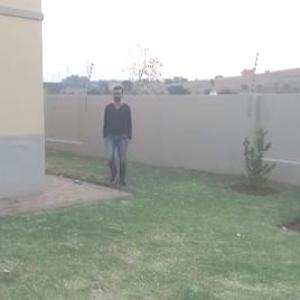follow: (100, 83, 138, 197)
